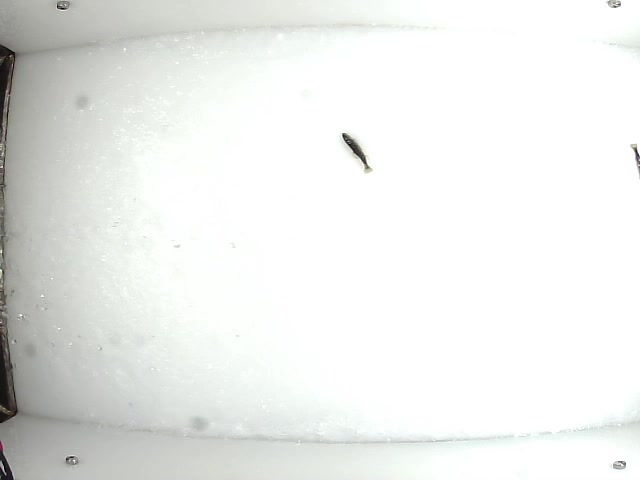fish: (341, 130, 373, 175)
